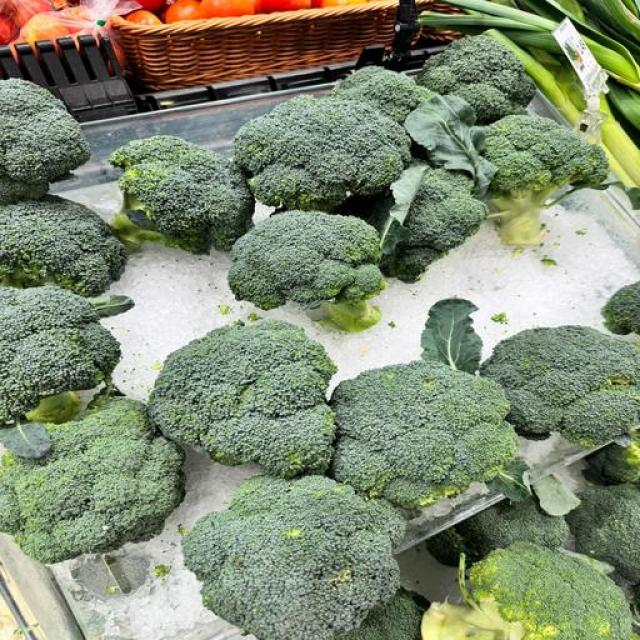organic: (183, 475, 404, 639), (0, 399, 183, 562), (149, 320, 336, 477), (332, 362, 518, 507), (153, 327, 333, 476), (0, 285, 133, 457), (0, 297, 133, 458), (423, 542, 633, 639), (234, 97, 409, 211), (420, 0, 639, 89), (482, 327, 639, 446), (228, 212, 386, 329), (110, 135, 253, 253), (0, 285, 119, 423), (484, 115, 608, 244), (470, 543, 631, 639), (229, 212, 384, 309), (369, 372, 508, 471), (0, 197, 126, 296), (382, 168, 487, 282), (0, 79, 89, 203), (418, 37, 536, 124), (485, 29, 586, 127), (427, 498, 569, 566), (485, 115, 607, 194), (405, 95, 496, 197), (110, 164, 209, 253), (567, 484, 639, 583), (333, 67, 433, 123), (420, 298, 482, 373), (599, 82, 639, 197), (378, 163, 428, 253), (335, 589, 424, 639), (560, 549, 633, 607), (599, 94, 639, 197), (422, 600, 524, 639), (580, 0, 639, 54), (110, 135, 202, 168), (587, 430, 639, 483), (587, 432, 639, 483), (530, 474, 579, 517), (319, 300, 381, 332), (602, 282, 639, 334), (425, 527, 472, 567), (24, 392, 82, 423), (0, 423, 51, 458), (19, 14, 69, 46), (0, 173, 48, 206), (13, 0, 52, 27), (90, 295, 134, 318), (202, 0, 257, 17), (165, 0, 202, 23), (552, 0, 584, 21), (262, 0, 311, 12), (0, 14, 18, 43), (127, 10, 162, 24), (137, 0, 166, 12), (319, 0, 367, 7), (629, 584, 639, 611), (153, 564, 171, 578), (492, 312, 508, 324), (540, 257, 557, 267), (218, 304, 232, 316), (248, 313, 262, 322), (178, 524, 188, 536), (105, 585, 118, 594), (512, 247, 523, 257), (575, 229, 588, 236), (388, 320, 397, 328), (635, 589, 638, 602)
